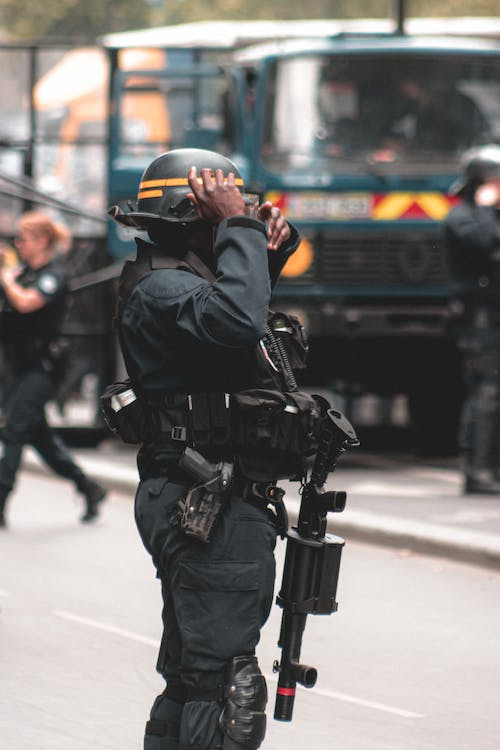gun: (267, 403, 362, 723), (175, 440, 237, 546)
